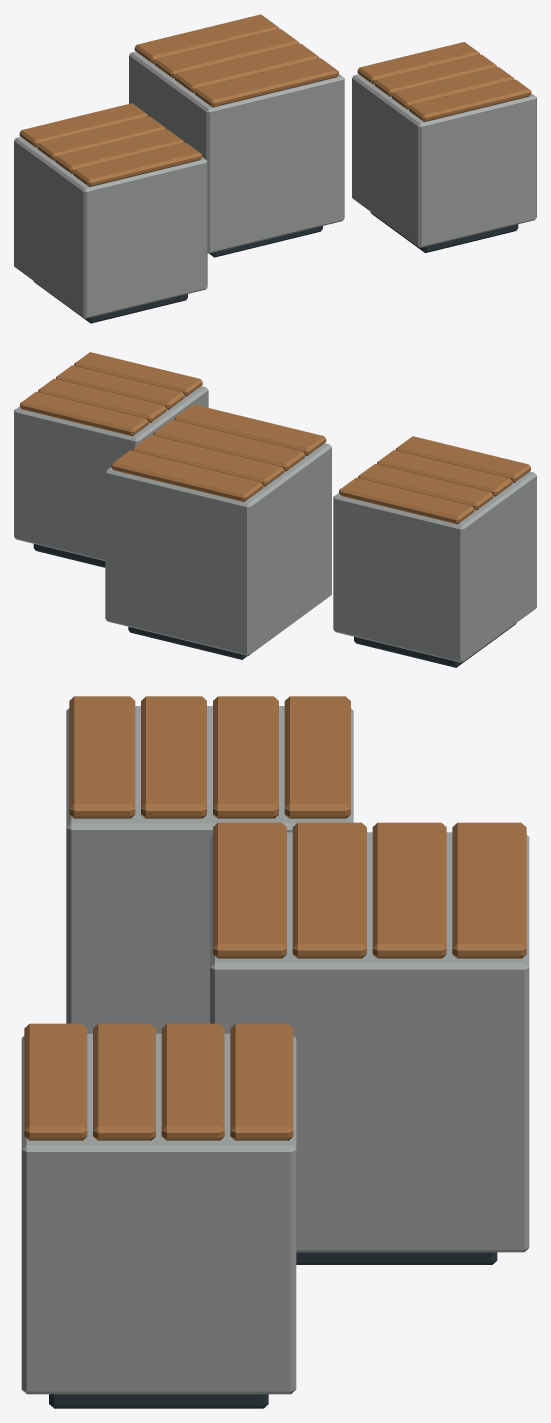
The model's file is b01_concrete_cube_seating_cluster.glb.
3 renders of one model, top to bottom at view 1: azimuth 30°, elevation 25°; view 2: azimuth 150°, elevation 25°; view 3: azimuth 270°, elevation 25°, orthographic. The views are drawn at different scales.
Parts seen in each view (by area): view 1: b01_concrete_cube_seating_cluster; view 2: b01_concrete_cube_seating_cluster; view 3: b01_concrete_cube_seating_cluster.
Part boxes in pixels (x1=…): b01_concrete_cube_seating_cluster: x1=14, y1=14, x2=536, y2=323; b01_concrete_cube_seating_cluster: x1=14, y1=352, x2=536, y2=667; b01_concrete_cube_seating_cluster: x1=21, y1=696, x2=529, y2=1408.
Size of the model in its own units: 1.6 by 0.57 by 0.795.
